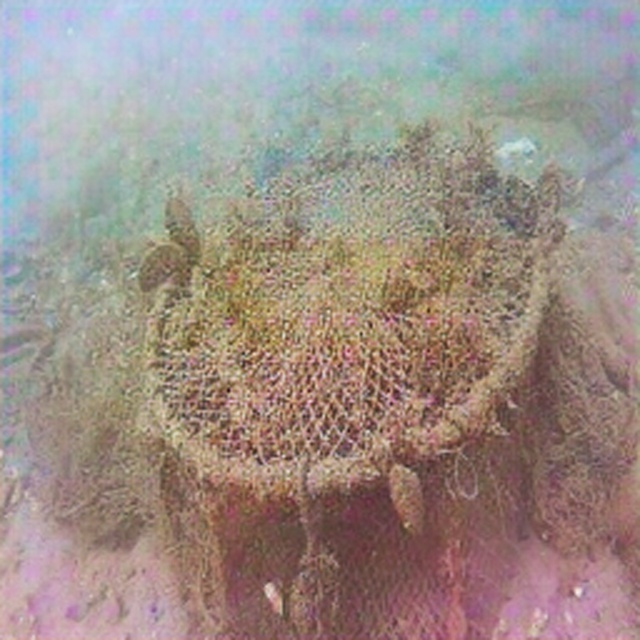mine: (141, 134, 554, 639)
